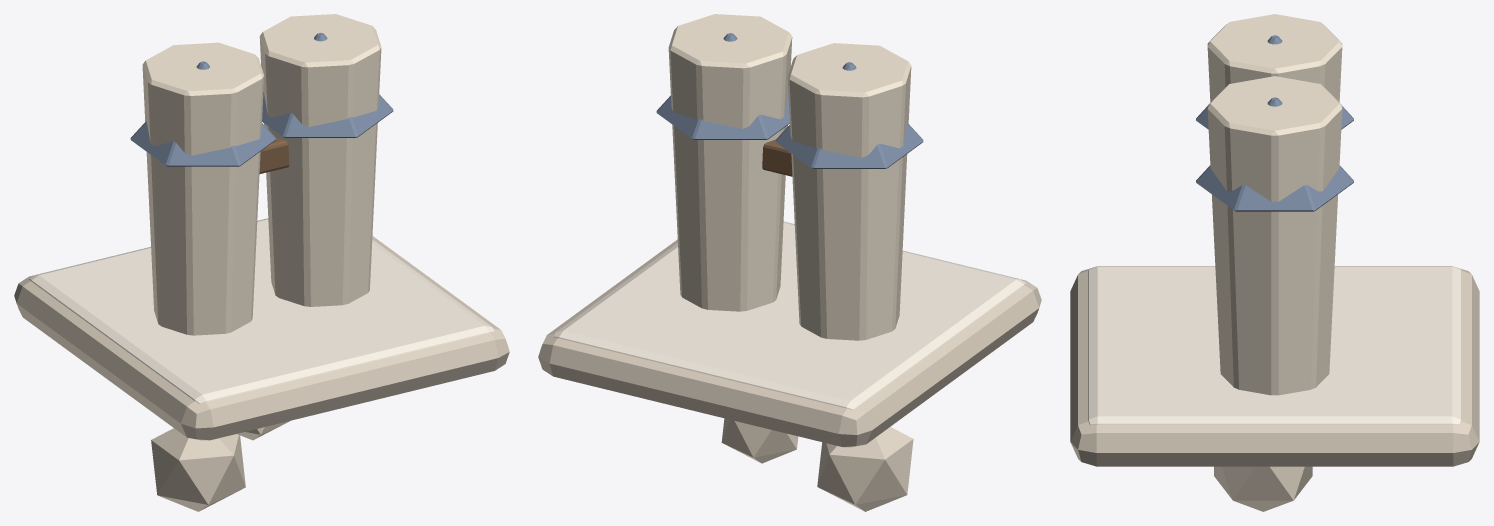
The model's file is island_multimodal.glb.
3 views of the same model, side by side, from view 1: azimuth 30°, elevation 25°; view 2: azimuth 150°, elevation 25°; view 3: azimuth 270°, elevation 25° (orthographic). The views are drawn at different scales.
Visible parts, largest first — view 1: island_multimodal; view 2: island_multimodal; view 3: island_multimodal.
Boxes of the visible parts, x1,y1,x2,y2 form: island_multimodal: (14, 14, 509, 511); island_multimodal: (538, 14, 1041, 511); island_multimodal: (1070, 14, 1479, 511).
Size of the model in its own units: 1.56 by 2.02 by 1.56.
